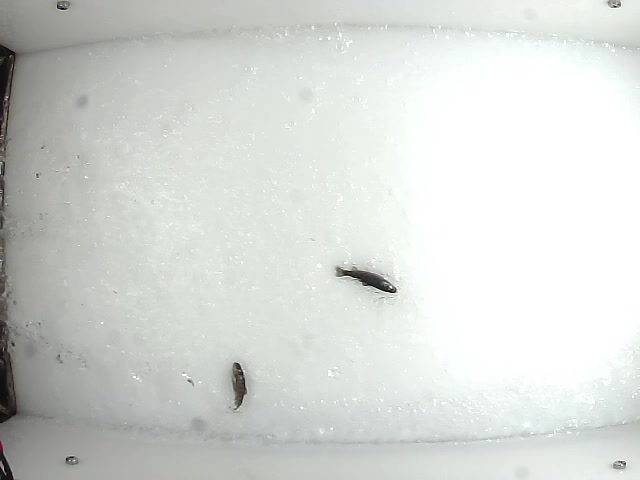fish: (333, 265, 396, 295), (226, 359, 247, 414)
